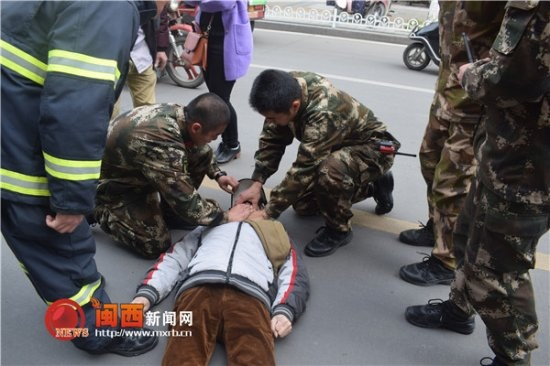falling: (125, 174, 321, 358)
